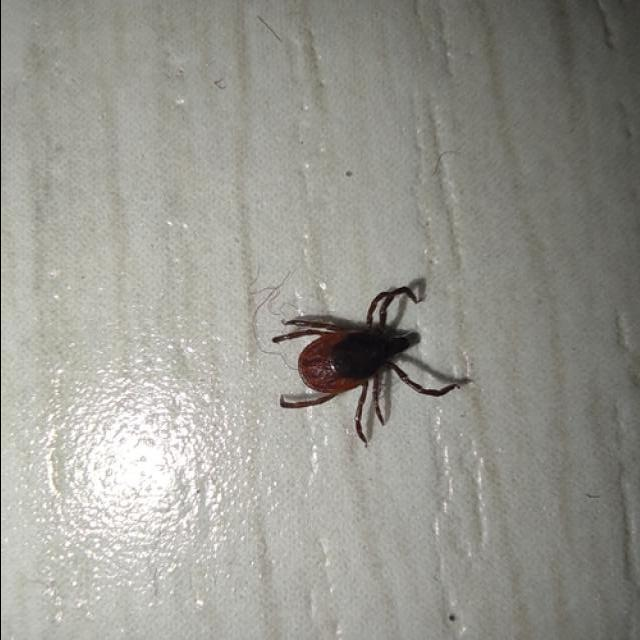Ixodes Ricinus-F: (273, 278, 468, 445)
